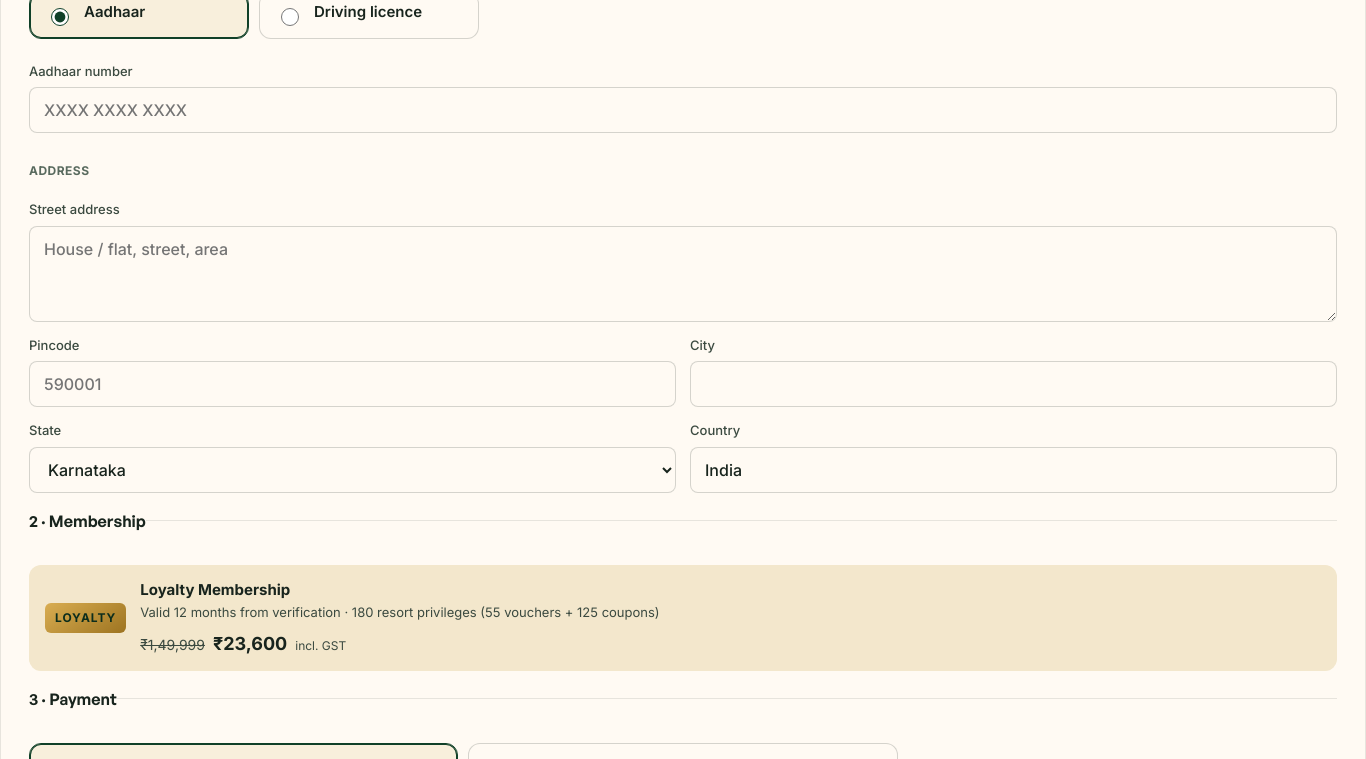
Test: Memberships — Sales Executive › fills city and state from the pincode
(page scrolled)
Type "4030" into the field labelled "Pincode".
click(352, 384); type("4030")  # box x1=29 y1=361 x2=676 y2=407
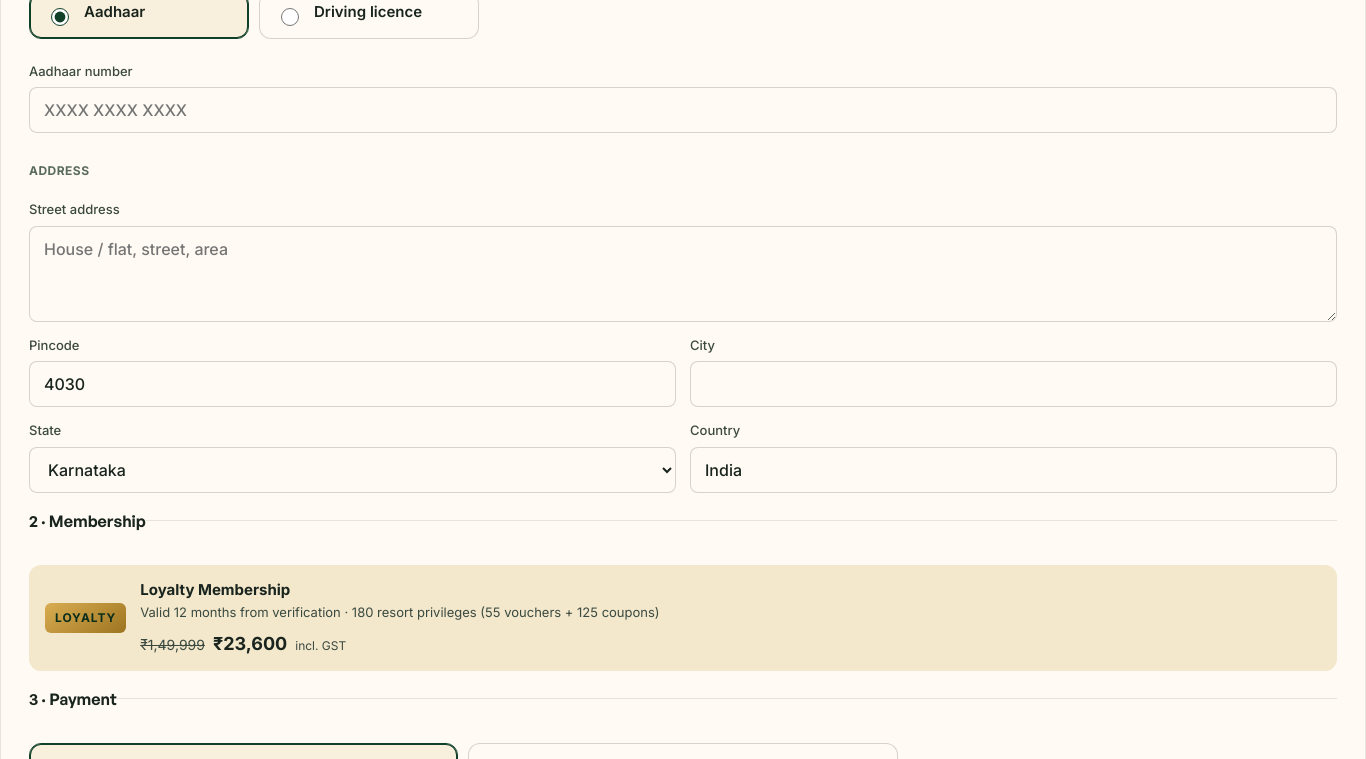
expect the field labelled "City" is empty: met, box x1=690 y1=361 x2=1337 y2=407
Replace the text in the field labelled "Pincode" with "403001" at (352, 384), box x1=29 y1=361 x2=676 y2=407
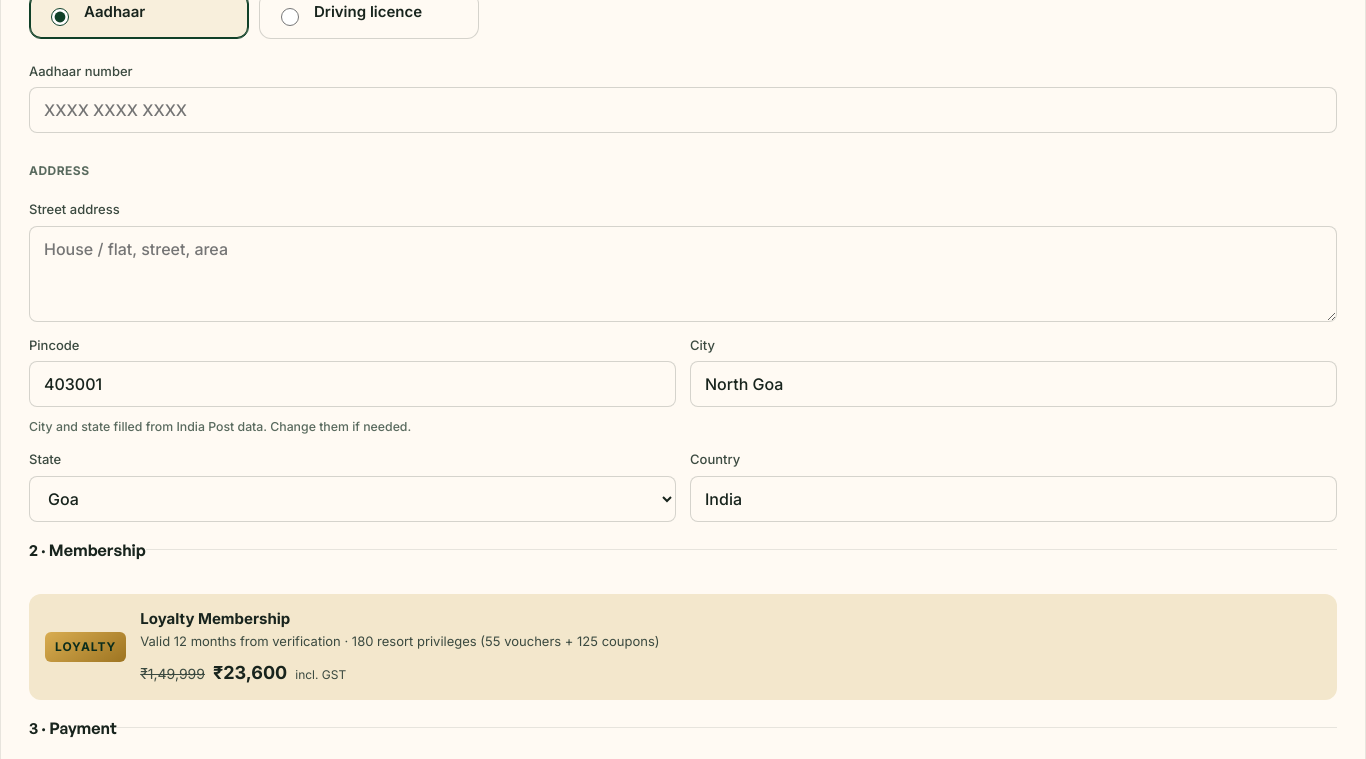
expect the field labelled "City" holds "North Goa": met, box x1=690 y1=361 x2=1337 y2=407
expect the dropdown labelled "State" shows "Goa": met, box x1=29 y1=476 x2=676 y2=522
expect the text "filled from India Post data" is shown: met, box x1=29 y1=419 x2=411 y2=434
